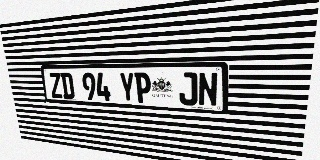4: (95, 72, 111, 101)
9: (81, 72, 97, 100)
D: (60, 73, 75, 99)
J: (179, 72, 197, 106)
N: (198, 72, 218, 107)
P: (134, 72, 152, 103)
Y: (119, 72, 136, 102)
Z: (48, 73, 63, 99)
